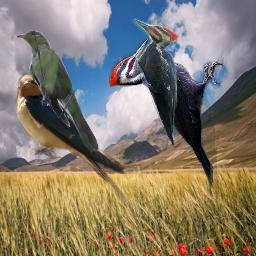Cuckoo: (17, 30, 103, 152)
Swallow: (15, 73, 142, 216)
Woodpecker: (109, 39, 223, 200), (131, 18, 180, 147)
